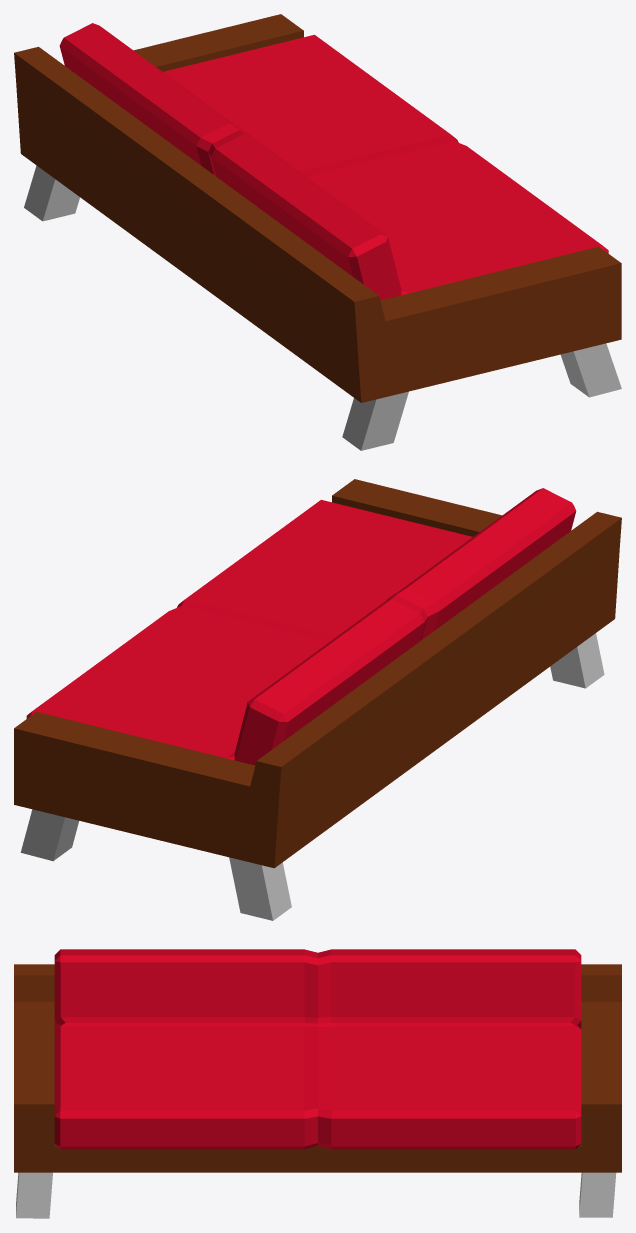
The model's file is Living_Room_sofa.fbx.
3 views of the same model, one above another, from view 1: azimuth 30°, elevation 25°; view 2: azimuth 150°, elevation 25°; view 3: azimuth 270°, elevation 25° (orthographic). The views are drawn at different scales.
Visible parts, largest first — view 1: Living_Room_sofa; view 2: Living_Room_sofa; view 3: Living_Room_sofa.
Part boxes in pixels (x1=…): Living_Room_sofa: x1=14, y1=14, x2=621, y2=450; Living_Room_sofa: x1=14, y1=479, x2=621, y2=920; Living_Room_sofa: x1=14, y1=949, x2=621, y2=1218.
Size of the model in its own units: 137 by 89.74 by 288.
